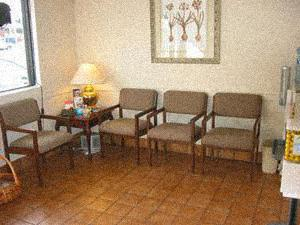Bote de Basura: (259, 145, 274, 175)
